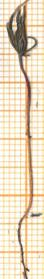flower: (4, 0, 38, 62)
root: (16, 214, 36, 279)
stem: (18, 63, 37, 216)
